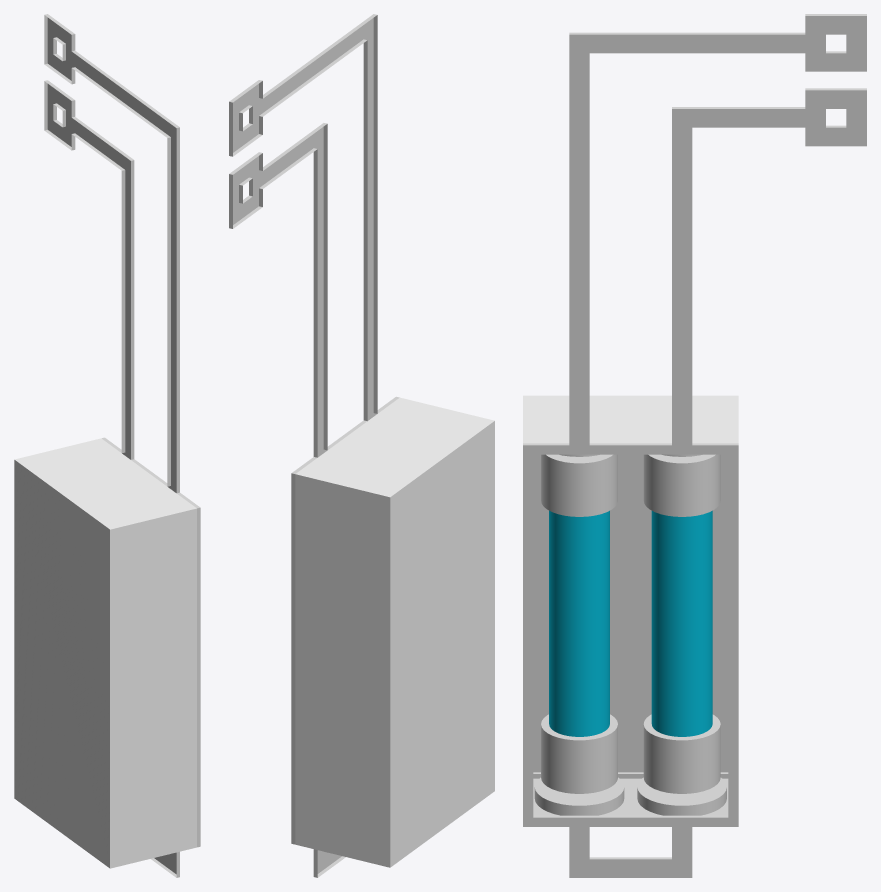
Rendered from 2Fuses.fbx.
3 views of the same model, side by side, from view 1: azimuth 30°, elevation 25°; view 2: azimuth 150°, elevation 25°; view 3: azimuth 270°, elevation 25° (orthographic). The views are drawn at different scales.
Parts seen in each view (by area): view 1: CutoutBox, Fuse; view 2: CutoutBox, Fuse; view 3: Fuse, TransparentTube, CutoutBox.
Boxes of the visible parts, x1,y1,x2,y2 form: CutoutBox: [14, 438, 196, 868]; Fuse: [44, 14, 200, 877]; CutoutBox: [295, 397, 494, 867]; Fuse: [229, 14, 399, 877]; Fuse: [523, 14, 866, 877]; TransparentTube: [549, 510, 712, 736]; CutoutBox: [523, 395, 738, 443].
Bounding box in the file's own units: 11.45 × 92.68 × 33.5.
